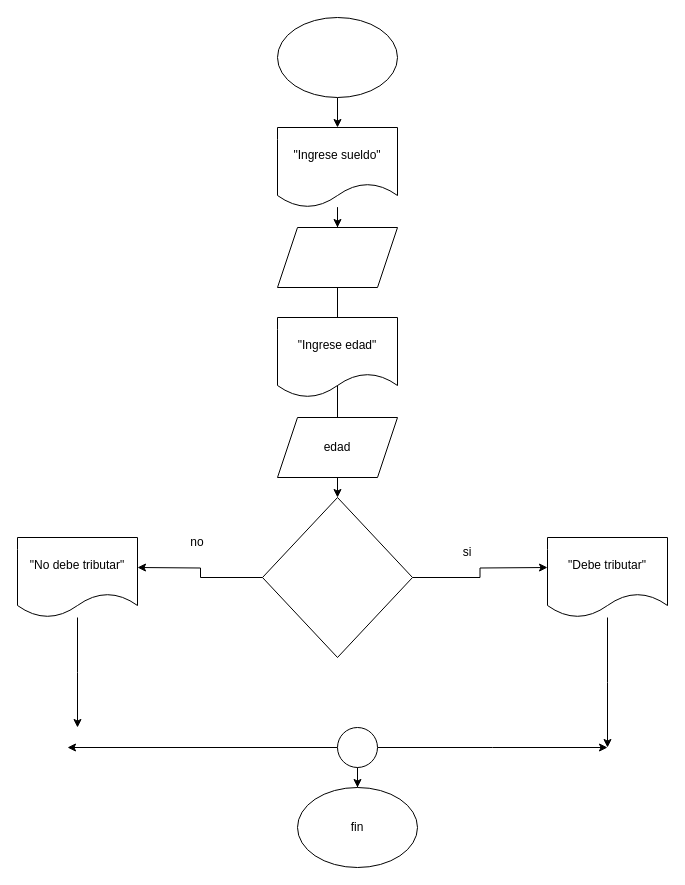
Image size: 685x885. Some labels were removed from this diagram. The centre of each missing label's shape, as x and y in pixels:
edad>= 18 Y sueldo >=1.000.000: point 337,577
Inicio: point 337,57
sueldo: point 337,257
